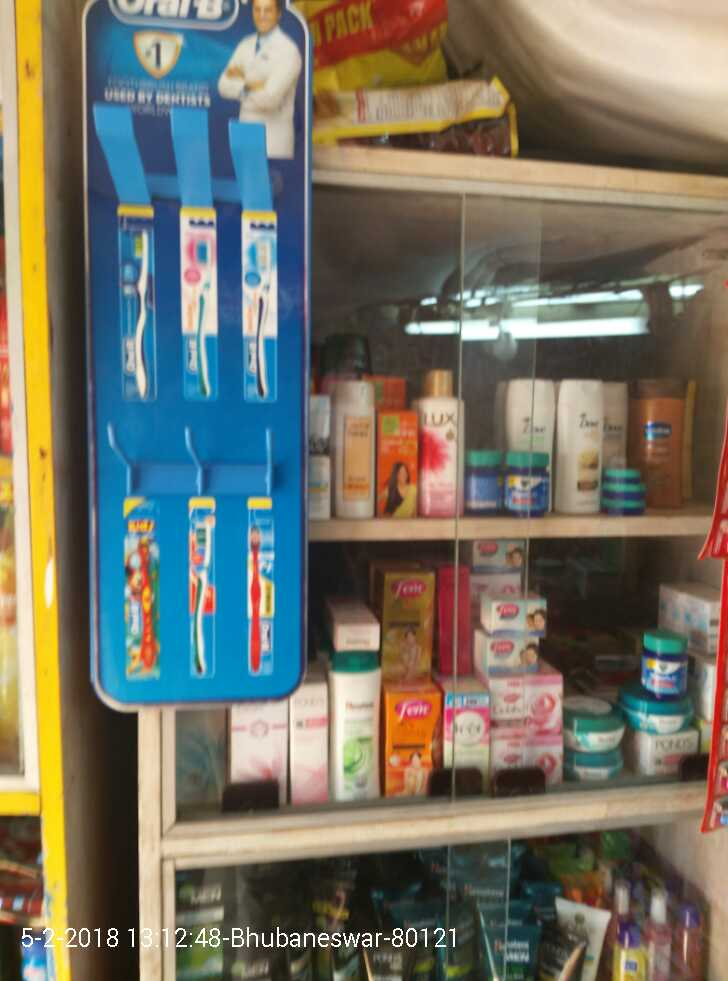vicks: (469, 447, 547, 513), (639, 625, 690, 700), (602, 469, 650, 516)
